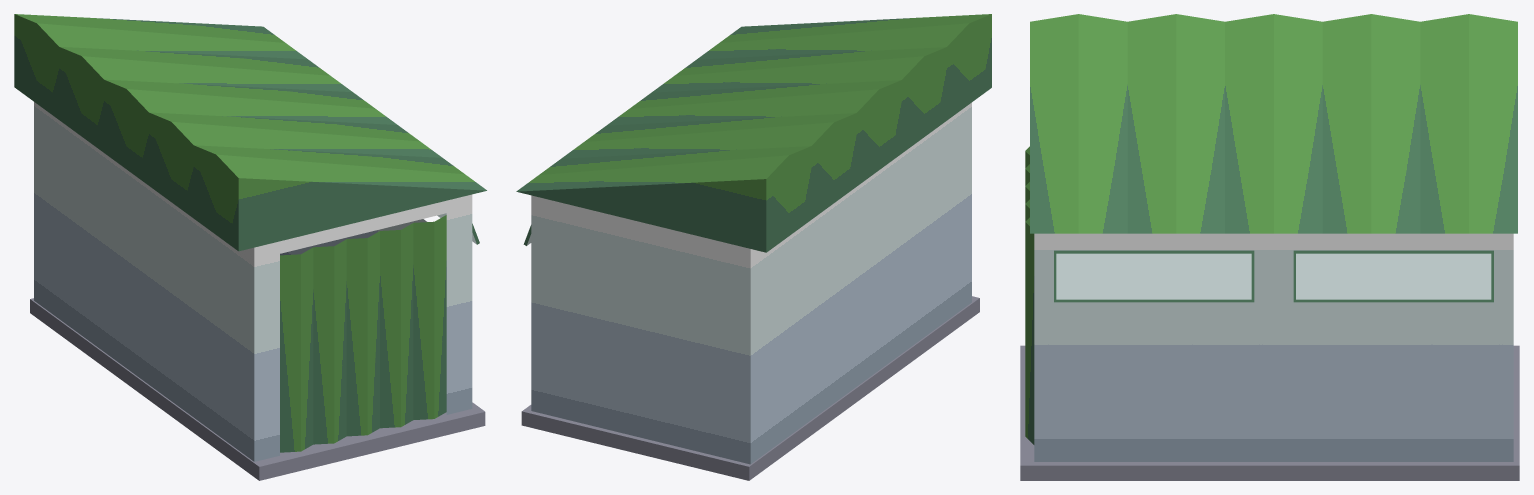
The model's file is casilla_base.fbx.
3 renders of one model, left to right at view 1: azimuth 30°, elevation 25°; view 2: azimuth 150°, elevation 25°; view 3: azimuth 270°, elevation 25°, orthographic. The views are drawn at different scales.
Visible parts, largest first — view 1: Cube.002, Cube.006, casilla_base; view 2: Cube.002, casilla_base; view 3: Cube.002, Cube.005, casilla_base, Cube.006.
Boxes of the visible parts, x1,y1,x2,y2 form: Cube.002: [14, 14, 486, 461]; Cube.006: [280, 215, 446, 452]; casilla_base: [30, 298, 485, 480]; Cube.002: [516, 14, 991, 464]; casilla_base: [521, 296, 979, 480]; Cube.002: [1030, 14, 1517, 461]; Cube.005: [1054, 250, 1493, 302]; casilla_base: [1020, 345, 1519, 480]; Cube.006: [1025, 146, 1034, 444].
Size of the model in its own units: 463 by 545 by 729.
